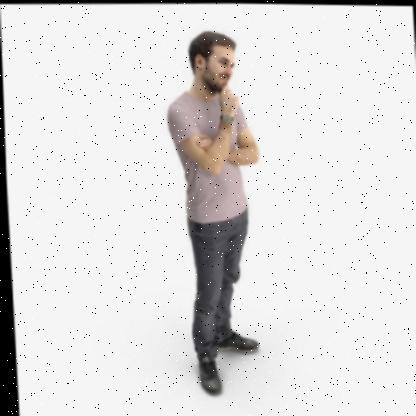person: (154, 16, 274, 394)
